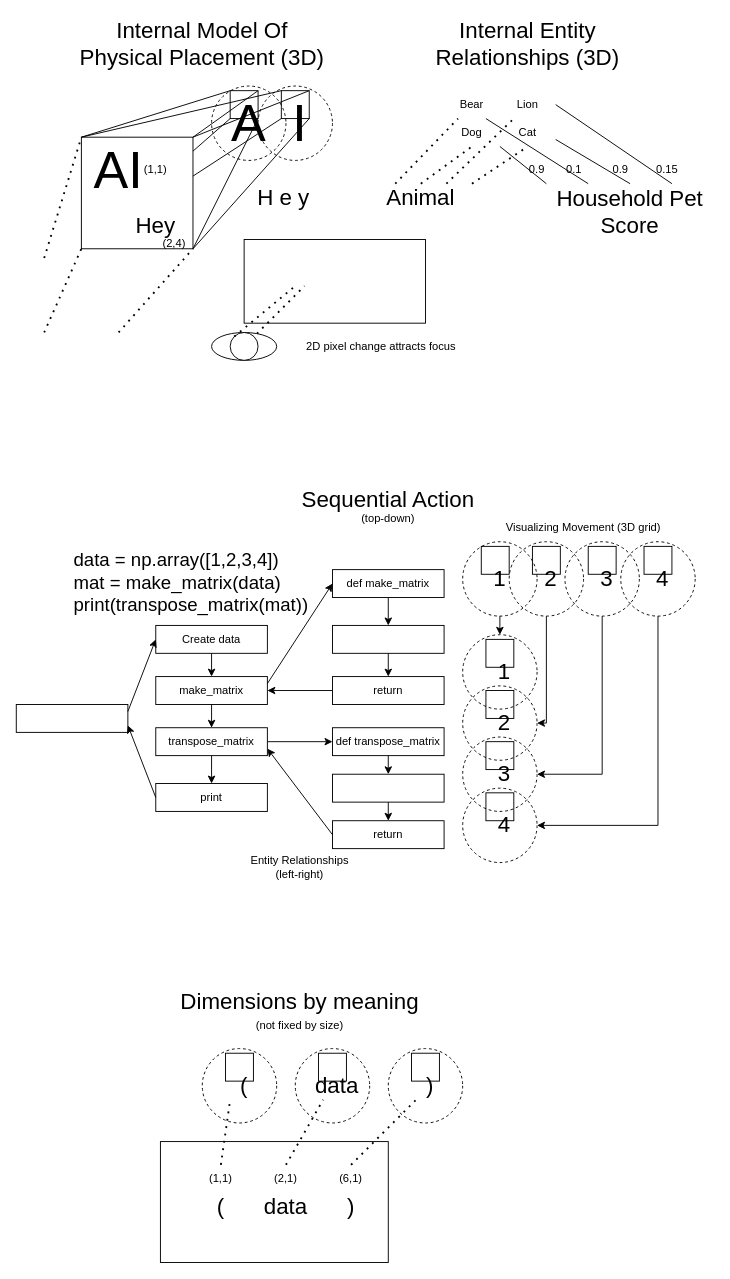
Some shapes in this 730 by 1279 pixel diagram are drawn without their labels. The centre of each missing label's shape, as x and y in pixels:
"add_dimension" belongs at (388,638).
"Program" belongs at (71,718).
"swap i,j to j,i" belongs at (388,787).
"update (x,y,z) in world coordinates" belongs at (334,281).
